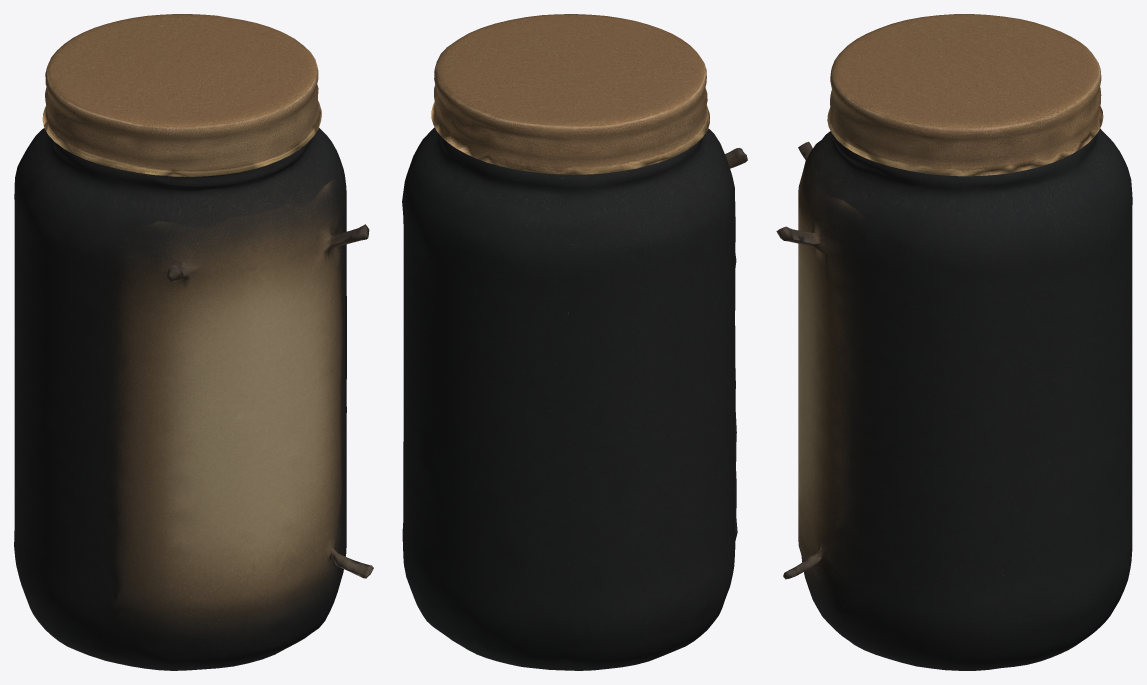
The model's file is PantryJar.fbx.
3 views of the same model, side by side, from view 1: azimuth 30°, elevation 25°; view 2: azimuth 150°, elevation 25°; view 3: azimuth 270°, elevation 25° (orthographic).
Visible parts, largest first — view 1: Mesh_0; view 2: Mesh_0; view 3: Mesh_0.
Part boxes in pixels (x1,y1,x2,y2): Mesh_0: (14, 14, 373, 670); Mesh_0: (402, 14, 747, 670); Mesh_0: (776, 14, 1132, 670).
Size of the model in its own units: 106 by 190 by 112.
1 material, 1 textured.
